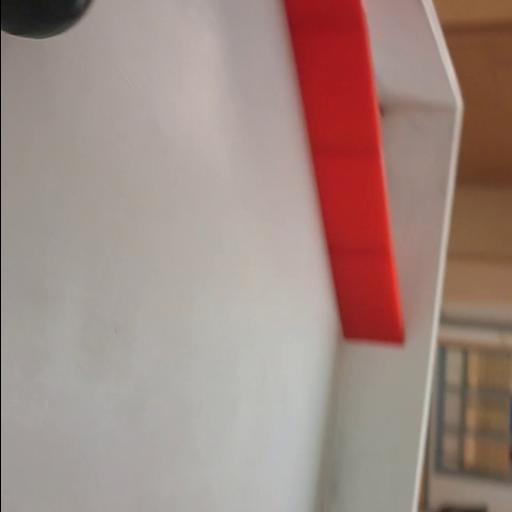dead: (0, 1, 96, 40)
